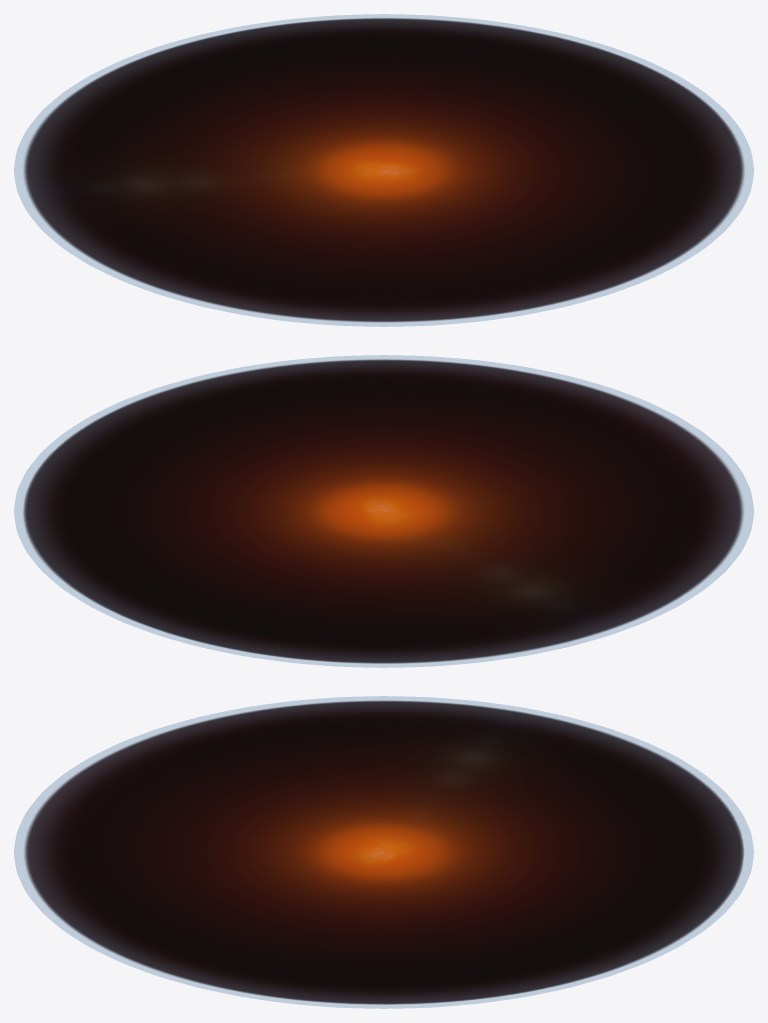
Rendered from floor.obj.
3 views of the same model, one above another, from view 1: azimuth 30°, elevation 25°; view 2: azimuth 150°, elevation 25°; view 3: azimuth 270°, elevation 25° (orthographic).
Parts seen in each view (by area): view 1: Platform_Cylinder; view 2: Platform_Cylinder; view 3: Platform_Cylinder.
Part boxes in pixels (x1=…): Platform_Cylinder: x1=14, y1=14, x2=753, y2=326; Platform_Cylinder: x1=14, y1=355, x2=753, y2=667; Platform_Cylinder: x1=14, y1=696, x2=753, y2=1008.
Size of the model in its own units: 24.69 by 6.7e-05 by 24.69.
Materials: 1 (1 with a texture image).
